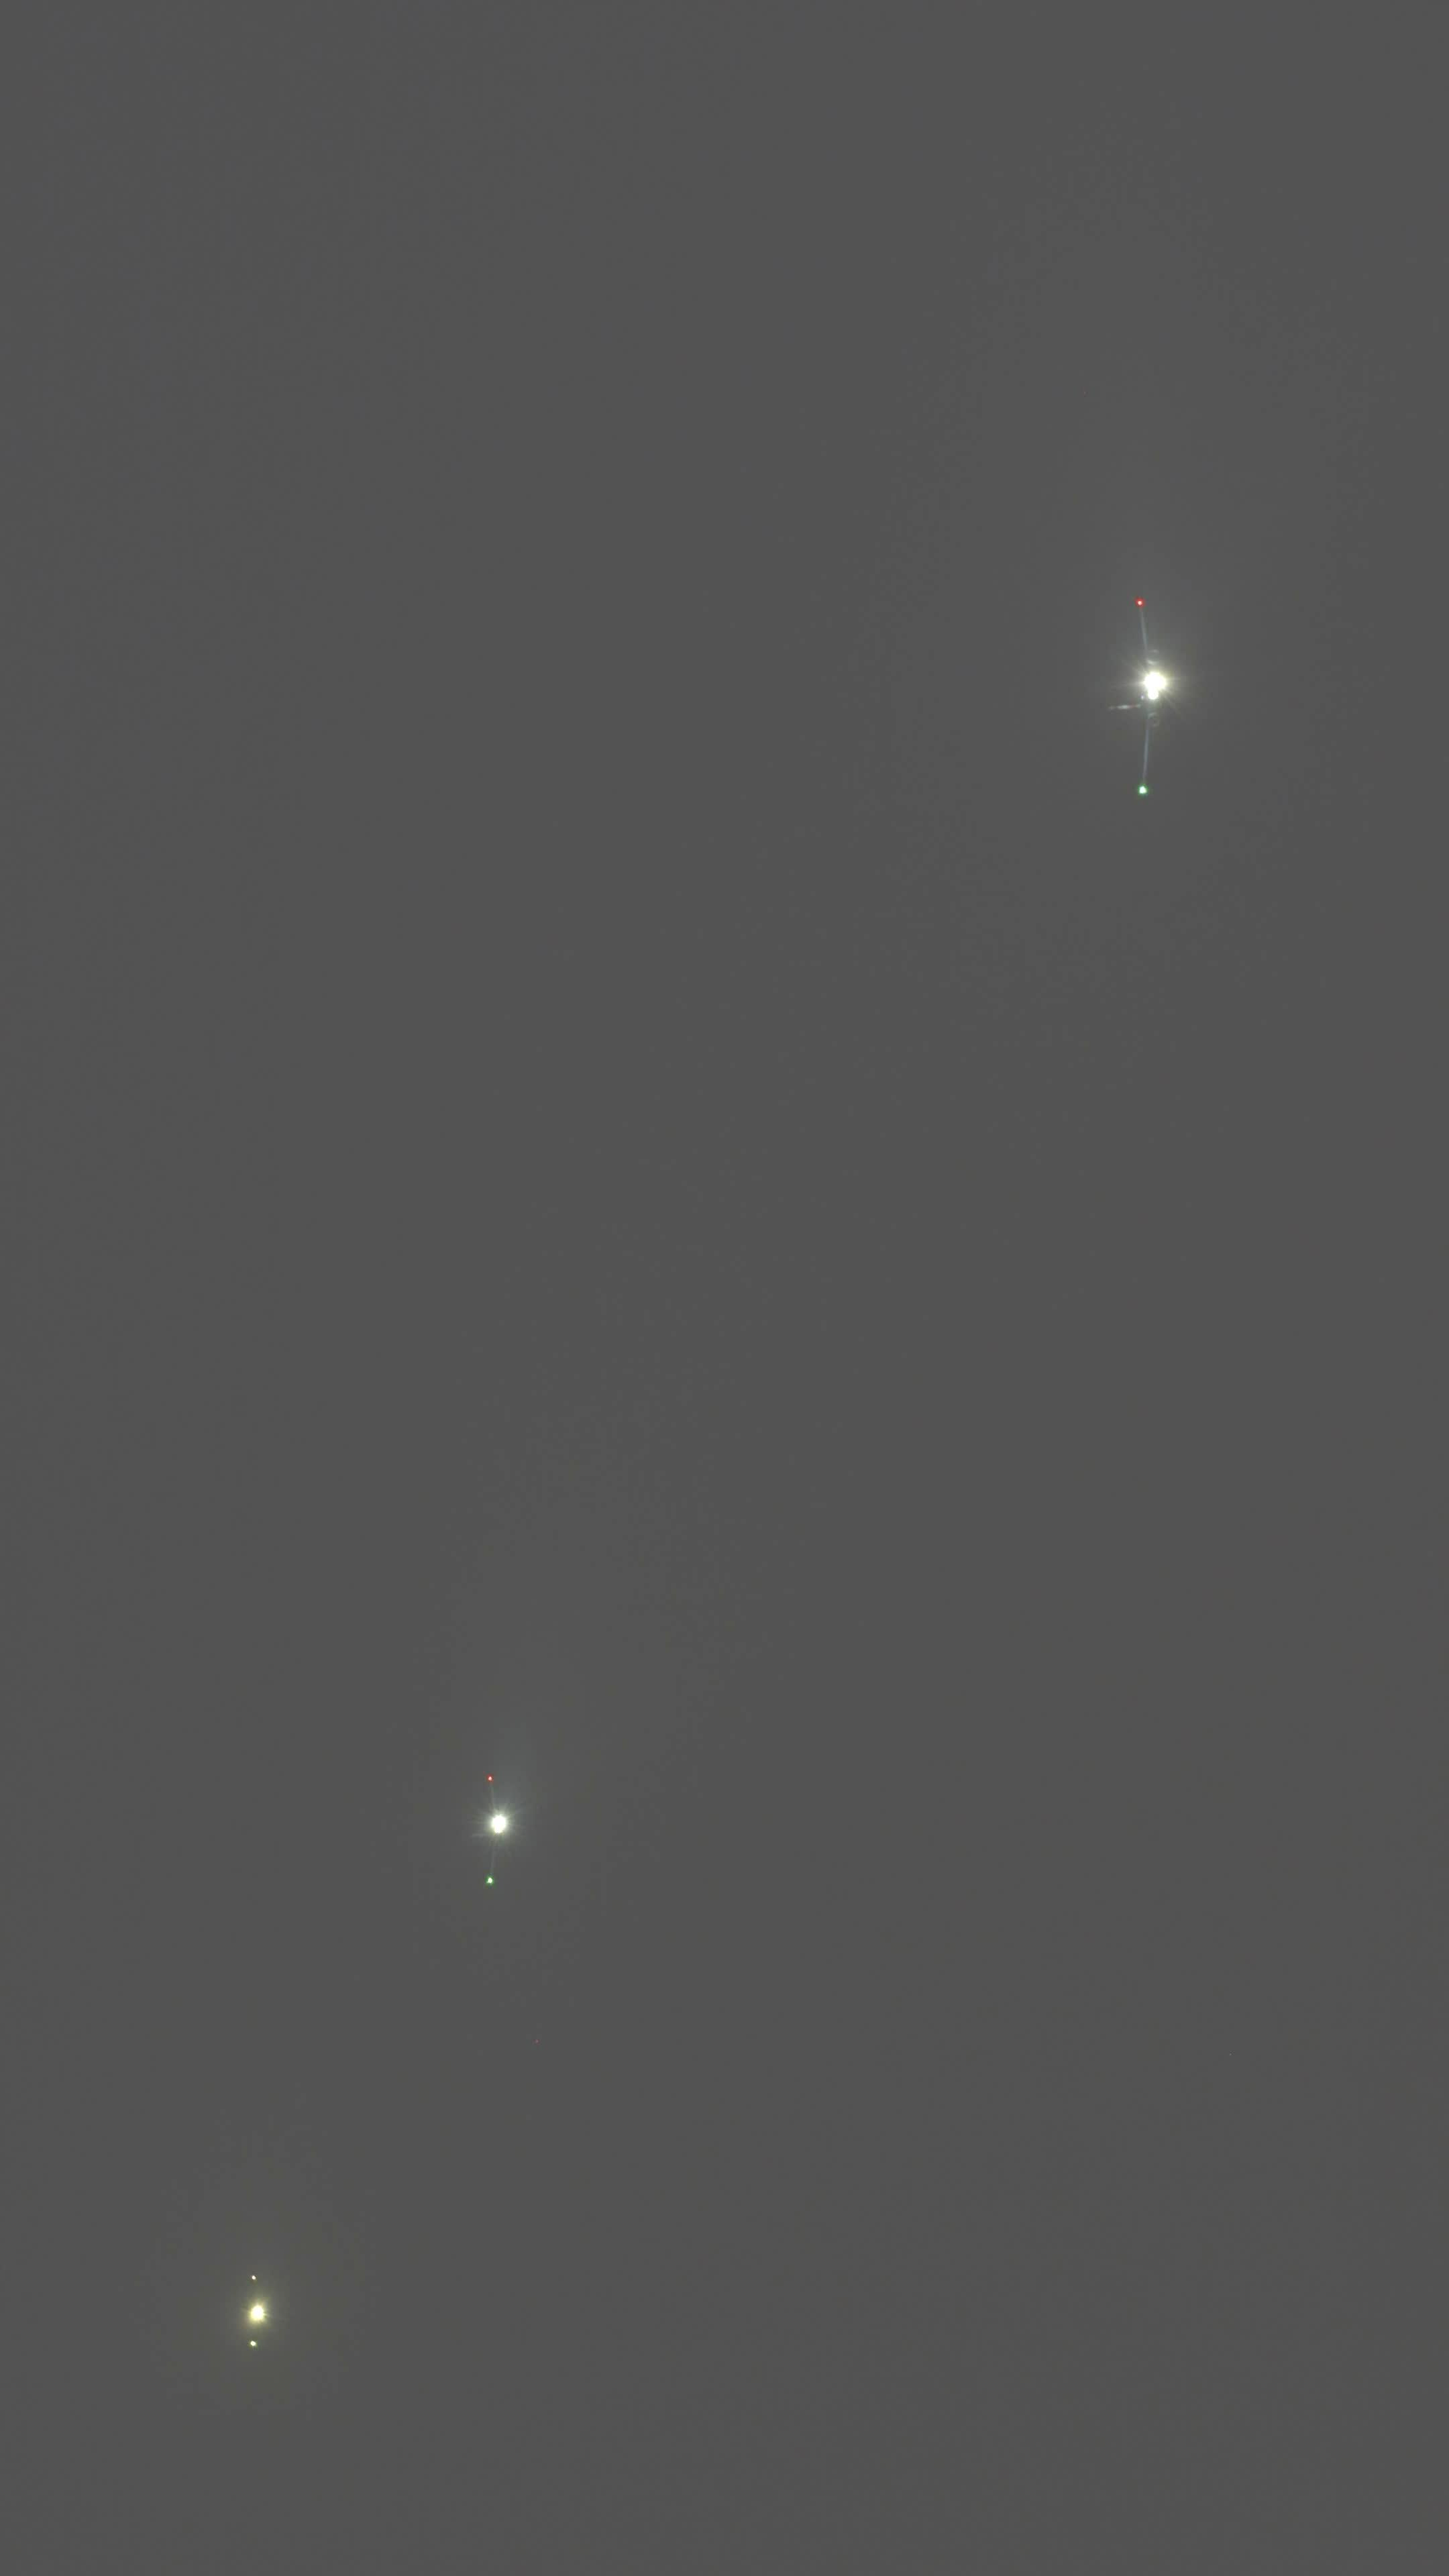Plane: (1081, 506, 1224, 878), (460, 1746, 547, 1911), (221, 2252, 292, 2376)
